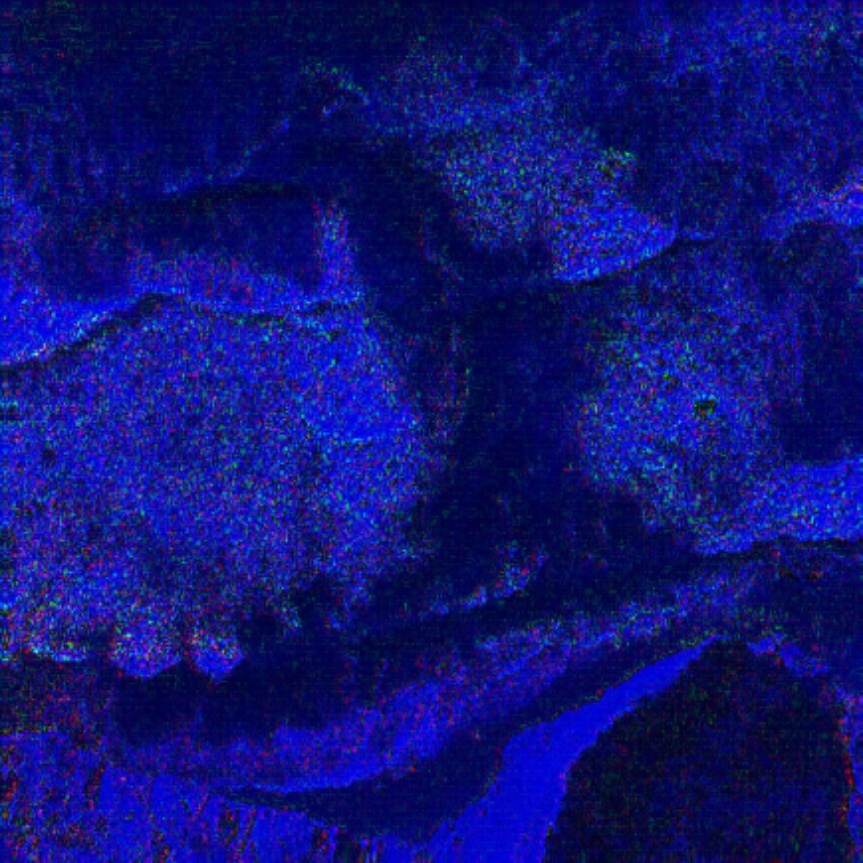rip_current: (321, 127, 645, 621)
